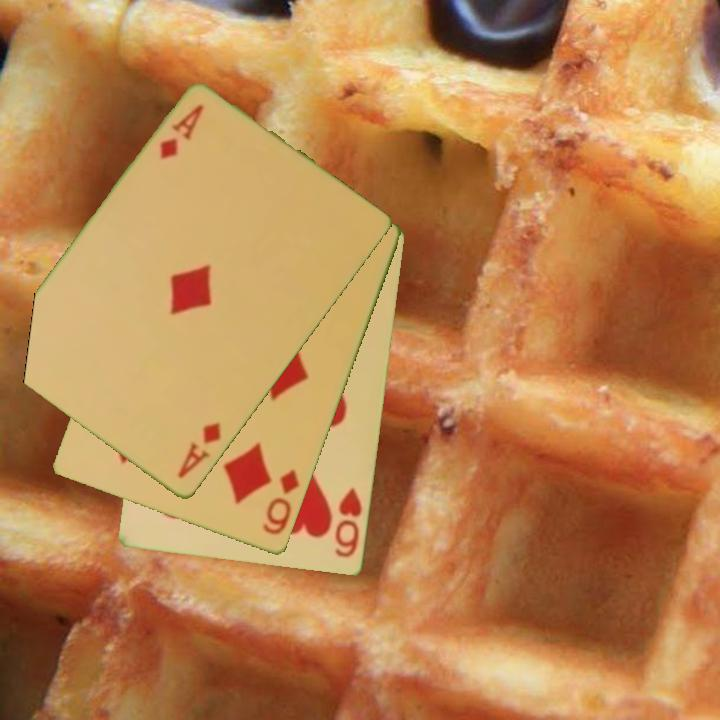6d: (259, 466, 303, 539)
6h: (332, 484, 365, 561)
Ad: (156, 101, 207, 163), (174, 419, 224, 482)
